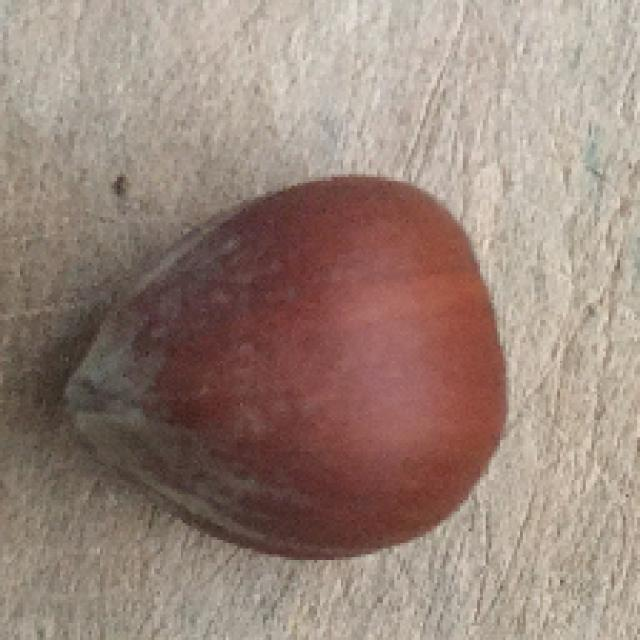qualityHazelnut: (68, 176, 512, 559)
